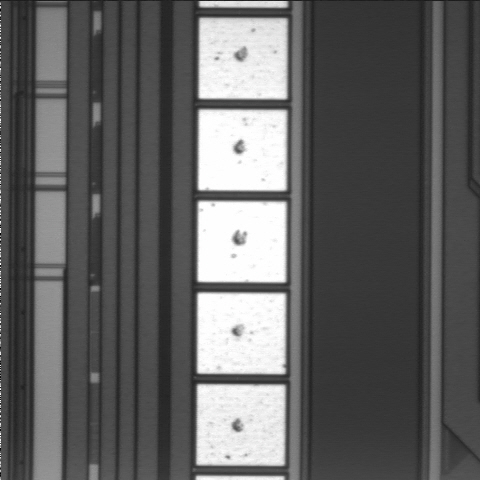pad: (197, 201, 286, 283), (196, 384, 285, 466), (198, 110, 287, 191), (197, 293, 286, 374), (199, 18, 287, 99)
